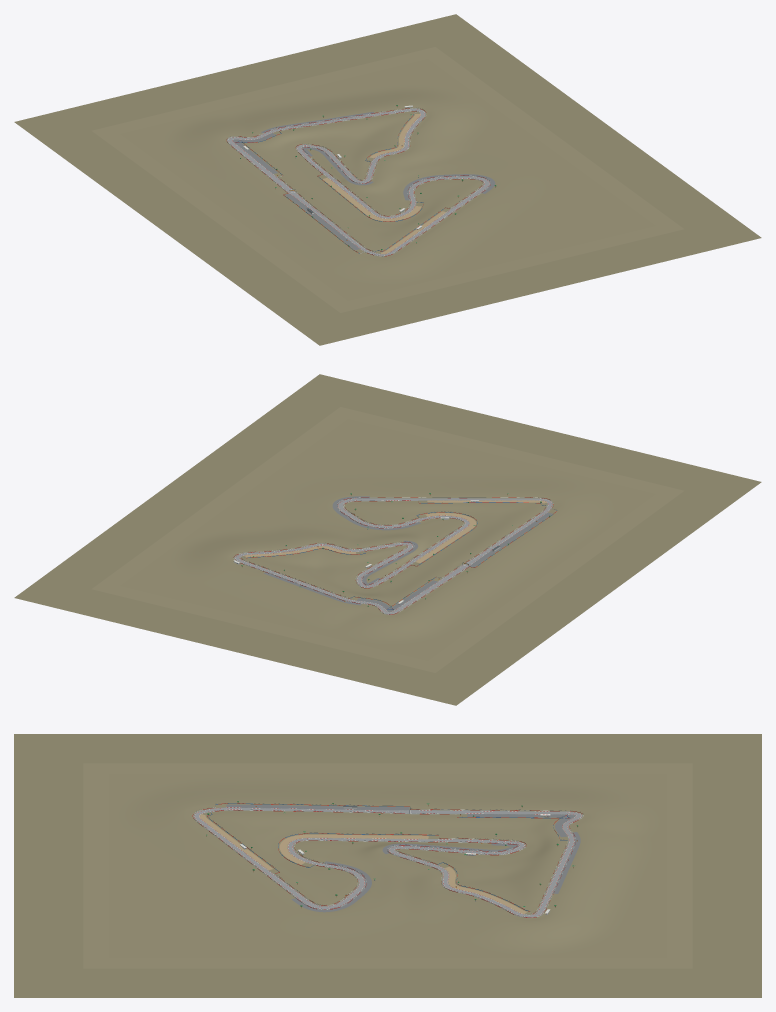
Rendered from bahrain.glb.
3 renders of one model, top to bottom at view 1: azimuth 30°, elevation 25°; view 2: azimuth 150°, elevation 25°; view 3: azimuth 270°, elevation 25°, orthographic. The views are drawn at different scales.
Parts seen in each view (by area): view 1: terrain_infield, terrain_outskirts, terrain_verge, track_surface, asphalt_runoff_zones, track_runoff, continuous_safety_barriers, gravel_runoff_zones, track_embankment, track_curbs; view 2: terrain_infield, terrain_outskirts, terrain_verge, track_surface, continuous_safety_barriers, asphalt_runoff_zones, track_runoff, gravel_runoff_zones, track_embankment; view 3: terrain_infield, terrain_outskirts, terrain_verge, track_surface, asphalt_runoff_zones, continuous_safety_barriers, track_runoff, gravel_runoff_zones, track_embankment, track_curbs, continuous_catch_fence.
Boxes of the visible parts, x1,y1,x2,y2 form: terrain_infield: (120,59,655,300); terrain_outskirts: (14,14,761,345); terrain_verge: (92,47,683,312); track_surface: (228,109,489,255); asphalt_runoff_zones: (232,111,495,250); track_runoff: (227,108,490,256); continuous_safety_barriers: (226,108,490,256); gravel_runoff_zones: (323,114,446,254); track_embankment: (226,108,483,256); track_curbs: (228,109,489,255); terrain_infield: (120,419,655,660); terrain_outskirts: (14,374,761,705); terrain_verge: (92,407,683,672); track_surface: (235,498,551,614); continuous_safety_barriers: (233,497,557,614); asphalt_runoff_zones: (264,496,552,611); track_runoff: (234,498,552,614); gravel_runoff_zones: (244,500,546,563); track_embankment: (233,498,553,614); terrain_infield: (108,774,667,957); terrain_outskirts: (14,734,761,997); terrain_verge: (83,763,692,968); track_surface: (194,808,581,917); asphalt_runoff_zones: (226,804,580,912); continuous_safety_barriers: (192,803,583,917); track_runoff: (193,807,582,917); gravel_runoff_zones: (199,814,526,914); track_embankment: (192,807,584,918); track_curbs: (194,807,581,917); continuous_catch_fence: (196,803,575,917).
Size of the model in its own units: 1980 by 26.42 by 2372.
